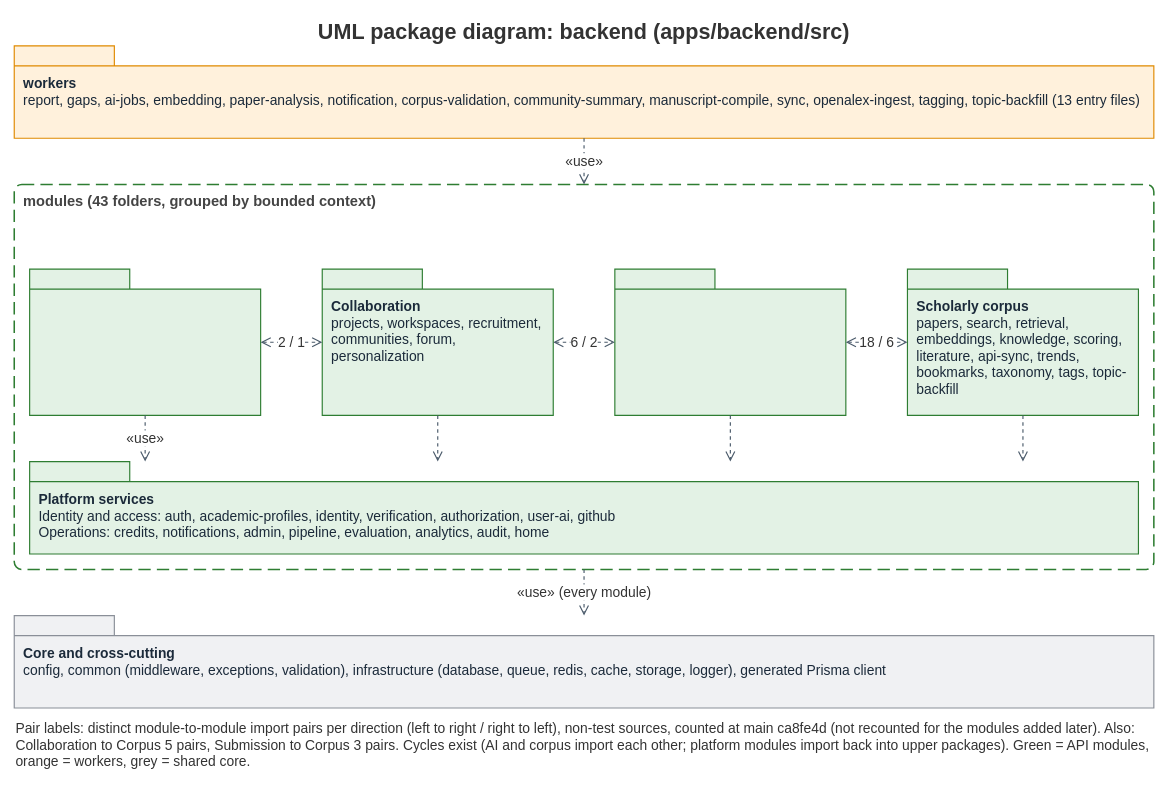
The diagram is 1167 pixels wide and 786 high, and some of its shapes have lost their labels. Here are the shapes that lost their labels. From the top down, the centre of each, then its label:
(145,342): Submission and review submissions reviews
(730,342): AI and analysis llm, mcp, reports, gaps, gap-closure, quality, ai-jobs
